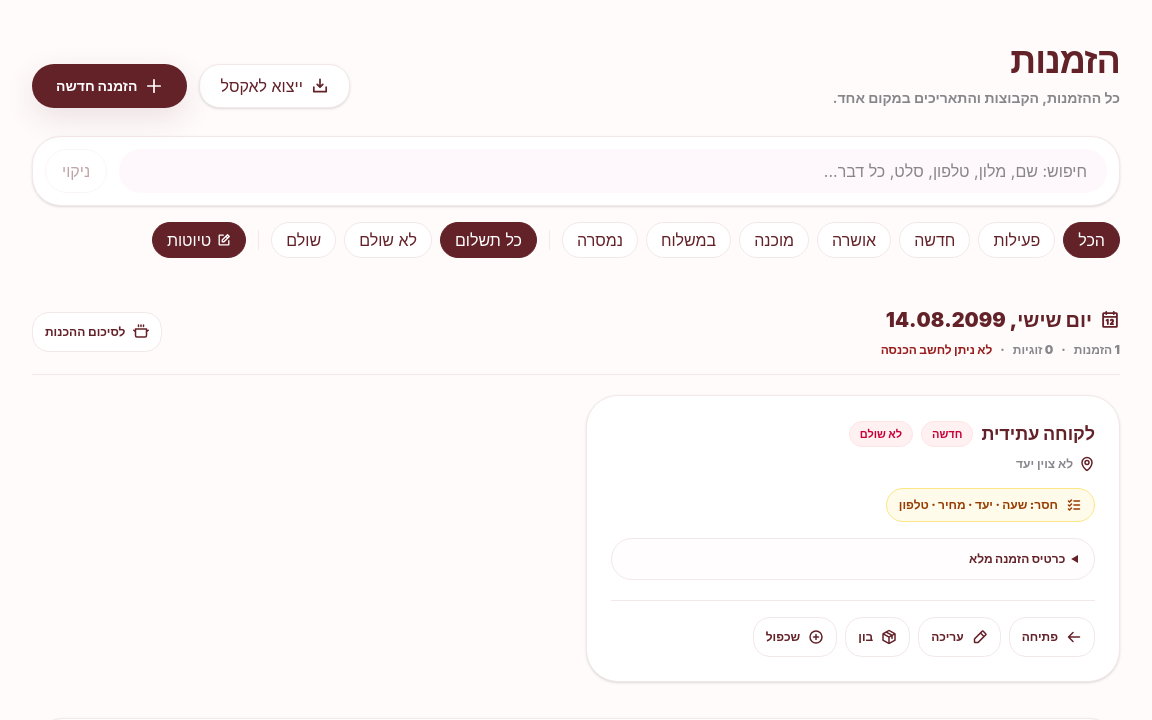
Test: OrdersScreen › searches past and cancelled orders live, reports matches, and clear restores and refocuses
This screenshot has width=1152, height=720.
Type "עבר מטבוחה" into the search field named "חיפוש הזמנות" at (613, 171), box [119,149,1107,193]
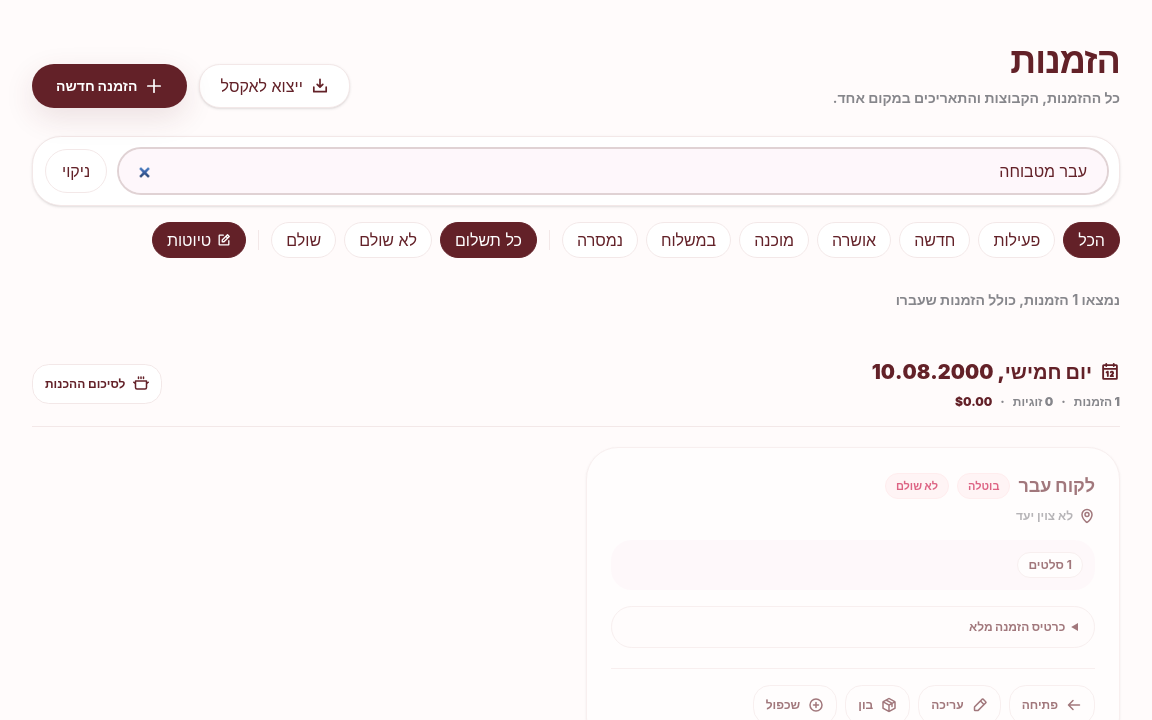
Expected: the text "נמצאו 1 הזמנות, כולל הזמנות שעברו" is shown, [896,291,1120,308]
Expected: the heading "לקוח עבר" is shown, [1018,472,1095,500]
Expected: the heading "לקוחה עתידית" is gone
Click the button "ניקוי" at (76, 171), box [45,149,107,193]
(page scrolled)
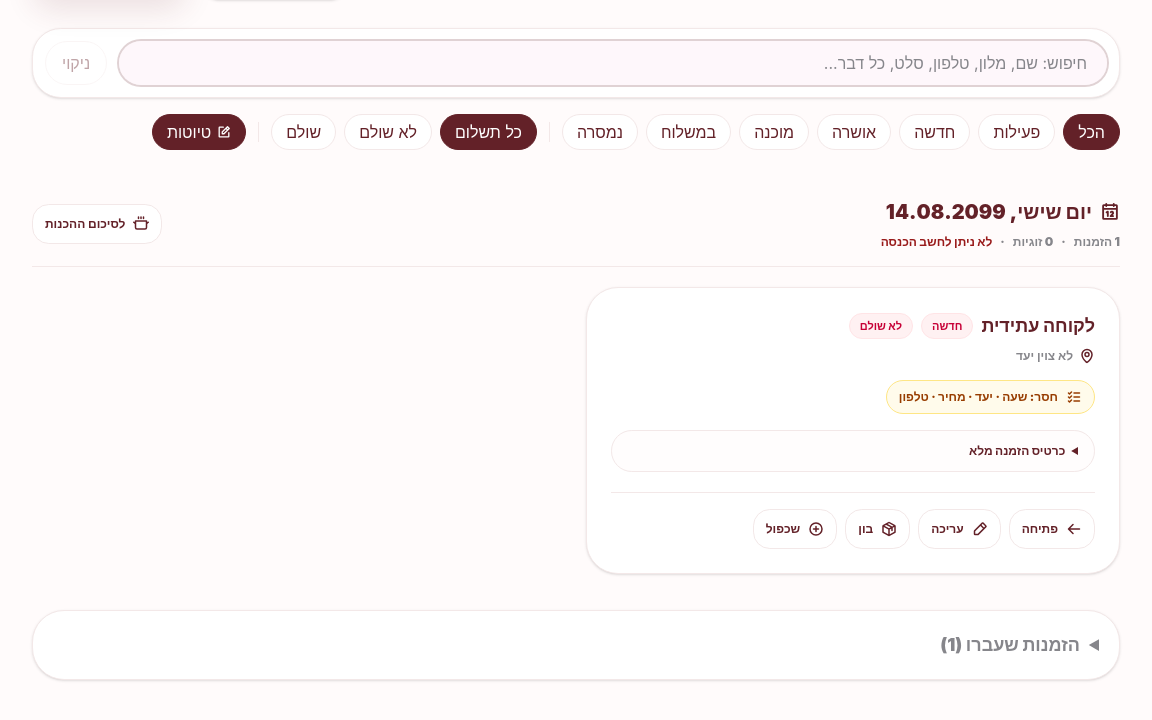
Expected: the search field named "חיפוש הזמנות" is empty, [119,41,1107,85]
Expected: the text "נמצאו 1 הזמנות, כולל הזמנות שעברו" is gone
Expected: the heading "לקוחה עתידית" is shown, [981,312,1095,340]
